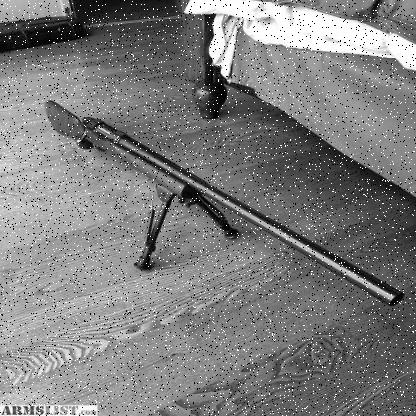rifle: (25, 96, 403, 335)
